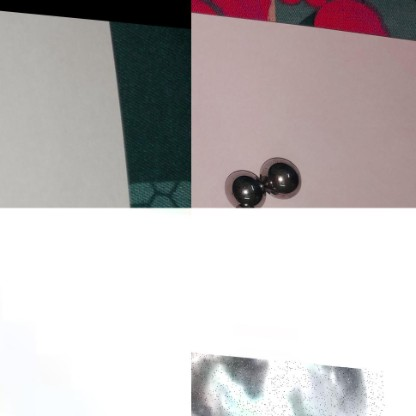ironball: (191, 344, 387, 415), (262, 153, 305, 201), (223, 165, 263, 205)
